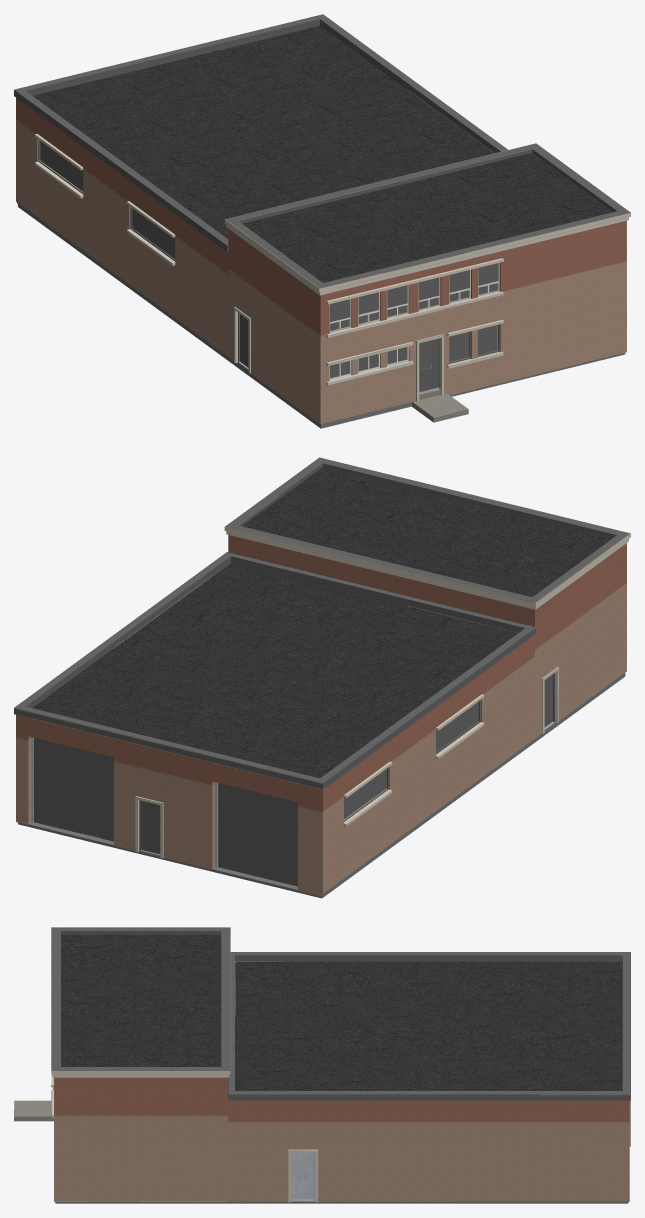
The model's file is 721 Bloor St W (version 2.0).fbx.
3 views of the same model, one above another, from view 1: azimuth 30°, elevation 25°; view 2: azimuth 150°, elevation 25°; view 3: azimuth 270°, elevation 25° (orthographic). The views are drawn at different scales.
Visible parts, largest first — view 1: 721_Bloor_St_W_LOD0; view 2: 721_Bloor_St_W_LOD0; view 3: 721_Bloor_St_W_LOD0.
Boxes of the visible parts, box(x1,y1,x2,y2) form: 721_Bloor_St_W_LOD0: box(14, 14, 630, 428); 721_Bloor_St_W_LOD0: box(14, 457, 630, 898); 721_Bloor_St_W_LOD0: box(14, 927, 630, 1203).
Size of what is drawn, in the model's own units: 1270 by 555 by 2305.
1 material, 1 textured.
